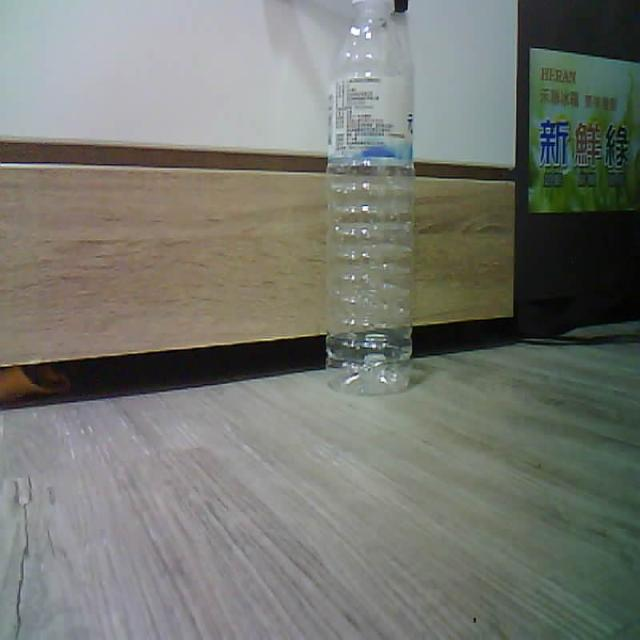bottle: (326, 0, 414, 394)
